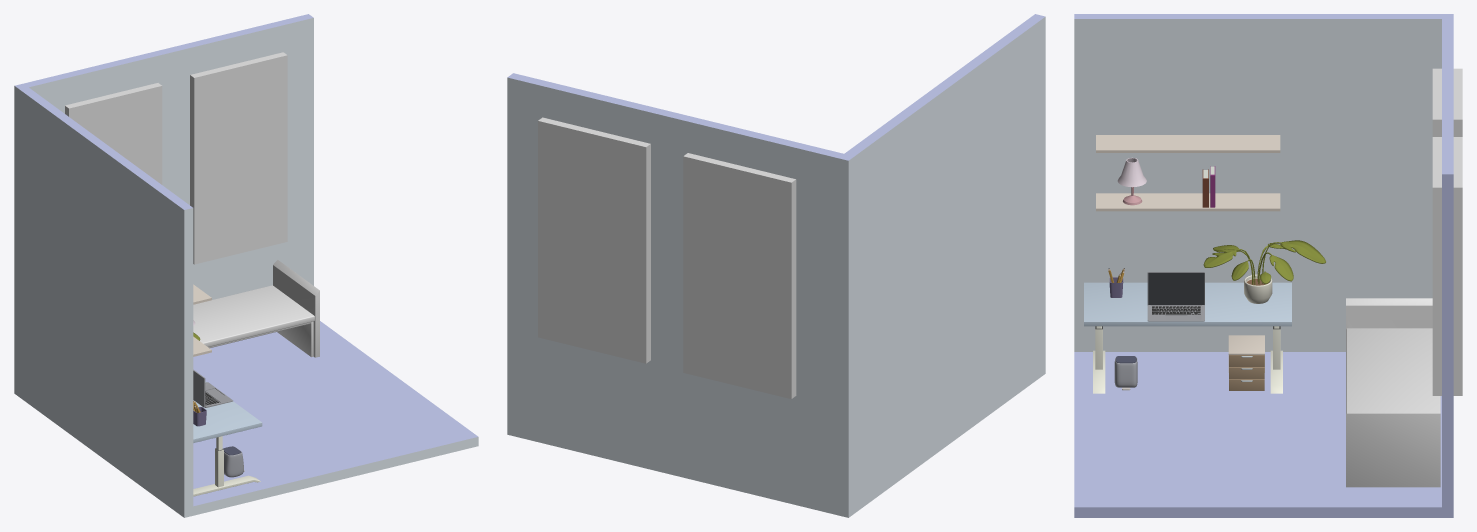
File: testRoom.glb
3 views of the same model, side by side, from view 1: azimuth 30°, elevation 25°; view 2: azimuth 150°, elevation 25°; view 3: azimuth 270°, elevation 25° (orthographic). The views are drawn at different scales.
Parts seen in each view (by area): view 1: Room, Cube.003, Cube.002, Cube, Cube.001, TableTop; view 2: Room, Cube.002, Cube.003; view 3: Room, Cube.001, Cube, TableTop, Cube.003, Shelf1, Shelf0, Screen, Cube.002, Drawer, TableFeet, LaptopBody (+7 smaller).
Part boxes in pixels (x1,y1,x2,y2): Room: [14, 14, 478, 517]; Cube.003: [190, 52, 287, 264]; Cube.002: [65, 83, 162, 184]; Cube: [193, 285, 314, 348]; Cube.001: [273, 260, 319, 357]; TableTop: [193, 381, 262, 442]; Room: [507, 14, 1045, 517]; Cube.002: [683, 153, 796, 398]; Cube.003: [538, 117, 650, 363]; Room: [1074, 14, 1453, 517]; Cube.001: [1346, 298, 1440, 487]; Cube: [1346, 328, 1440, 413]; TableTop: [1084, 282, 1291, 326]; Cube.003: [1432, 137, 1462, 395]; Shelf1: [1096, 135, 1280, 152]; Shelf0: [1096, 193, 1280, 211]; Screen: [1150, 273, 1202, 303]; Cube.002: [1432, 68, 1462, 136]; Drawer: [1229, 355, 1264, 390]; TableFeet: [1093, 350, 1282, 393]; LaptopBody: [1147, 305, 1204, 321].
Size of the model in its own units: 25.41 by 25.41 by 26.01.
